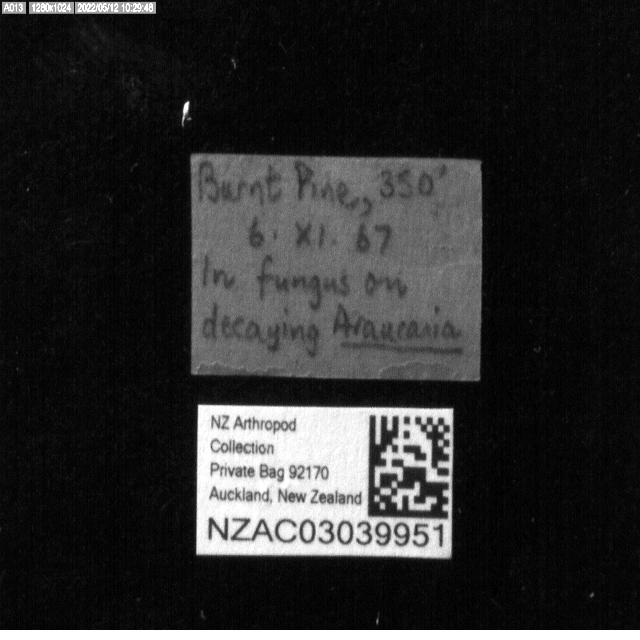hand_label: (191, 153, 481, 380)
typed_label: (196, 405, 454, 558)
